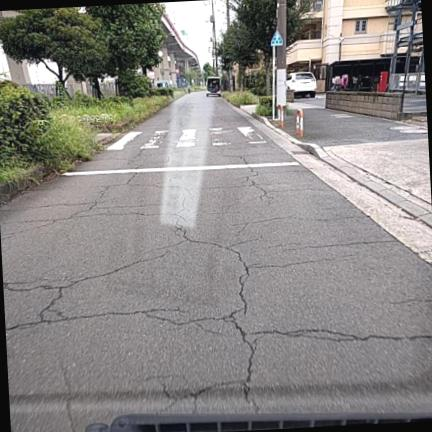Road: (0, 93, 431, 431)
